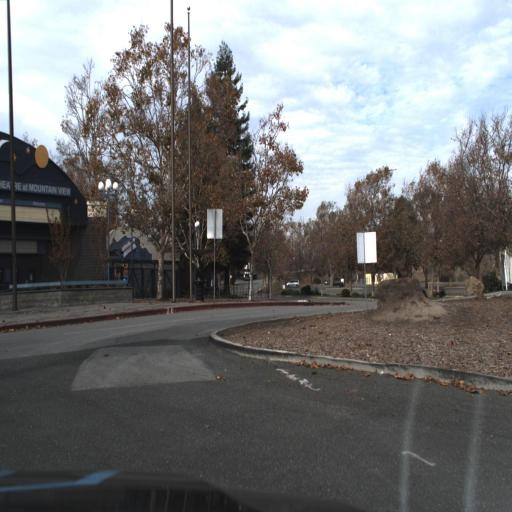car: (287, 280, 300, 288)
truck: (243, 262, 258, 281)
